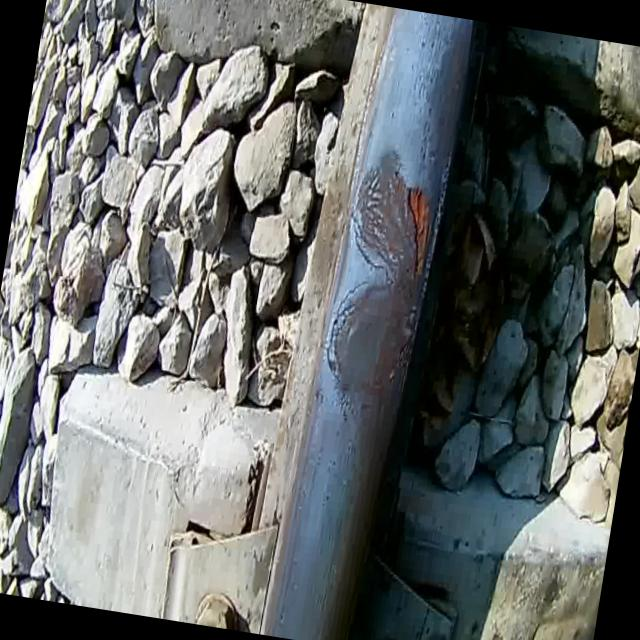Cracks: (338, 159, 416, 288), (305, 268, 373, 409)
Spallings: (386, 170, 446, 298)
Squats: (306, 132, 456, 430)
